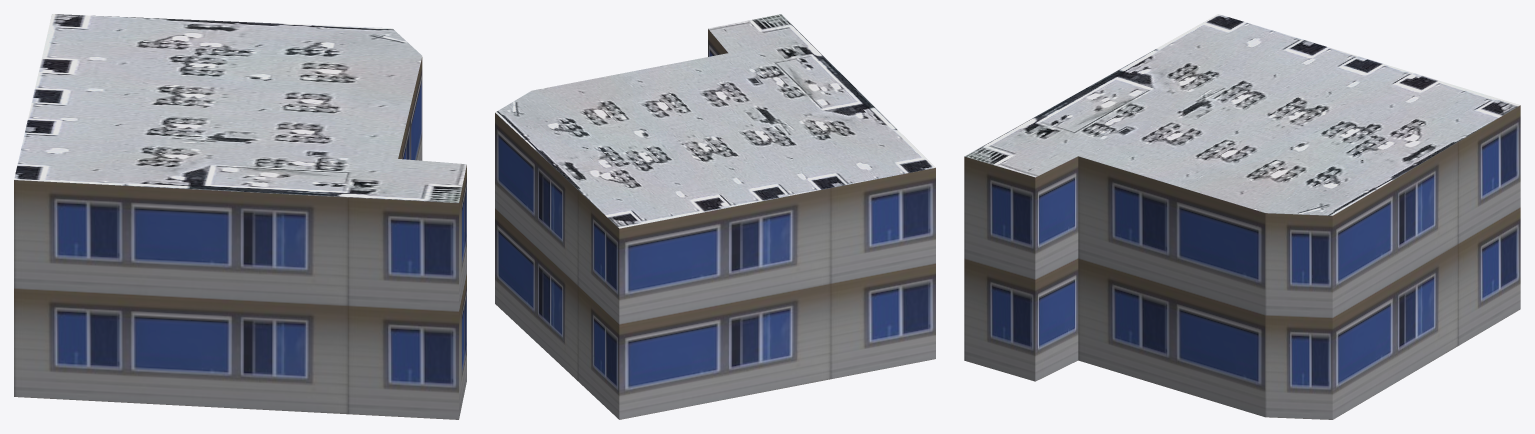
Rendered from ResTex__198.fbx.
The picture shows the model from 3 angles, left to right: view 1: azimuth 30°, elevation 25°; view 2: azimuth 150°, elevation 25°; view 3: azimuth 270°, elevation 25°; orthographic projection. The views are drawn at different scales.
Parts seen in each view (by area): view 1: CityEngineMaterial_23_m, CityEngineMaterial_4_m; view 2: CityEngineMaterial_23_m, CityEngineMaterial_4_m; view 3: CityEngineMaterial_23_m, CityEngineMaterial_4_m.
Boxes of the visible parts, bbox=[...] form: CityEngineMaterial_23_m: bbox=[14, 57, 466, 419]; CityEngineMaterial_4_m: bbox=[14, 14, 466, 202]; CityEngineMaterial_23_m: bbox=[495, 29, 935, 419]; CityEngineMaterial_4_m: bbox=[495, 14, 935, 228]; CityEngineMaterial_23_m: bbox=[964, 105, 1520, 419]; CityEngineMaterial_4_m: bbox=[965, 14, 1520, 215].
Size of the model in its own units: 12.71 by 6 by 14.8.
Materials: 2 (2 with a texture image).
